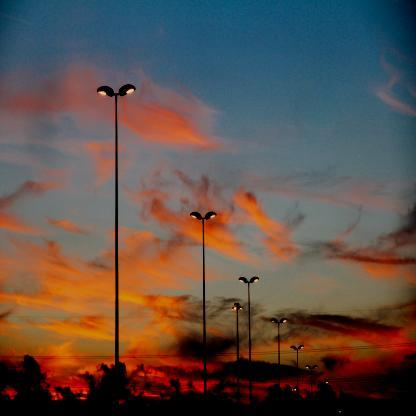light_pole: (96, 85, 136, 415), (189, 210, 217, 415), (238, 277, 260, 415), (270, 318, 287, 415), (231, 303, 243, 413), (289, 345, 305, 415), (305, 365, 318, 415), (318, 380, 329, 416), (291, 386, 299, 416)
